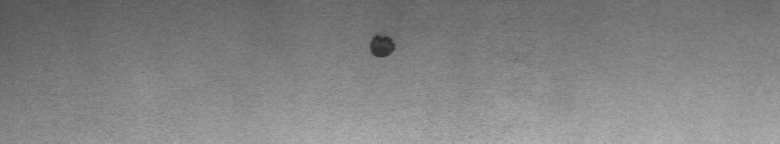fi: (364, 24, 400, 64)
